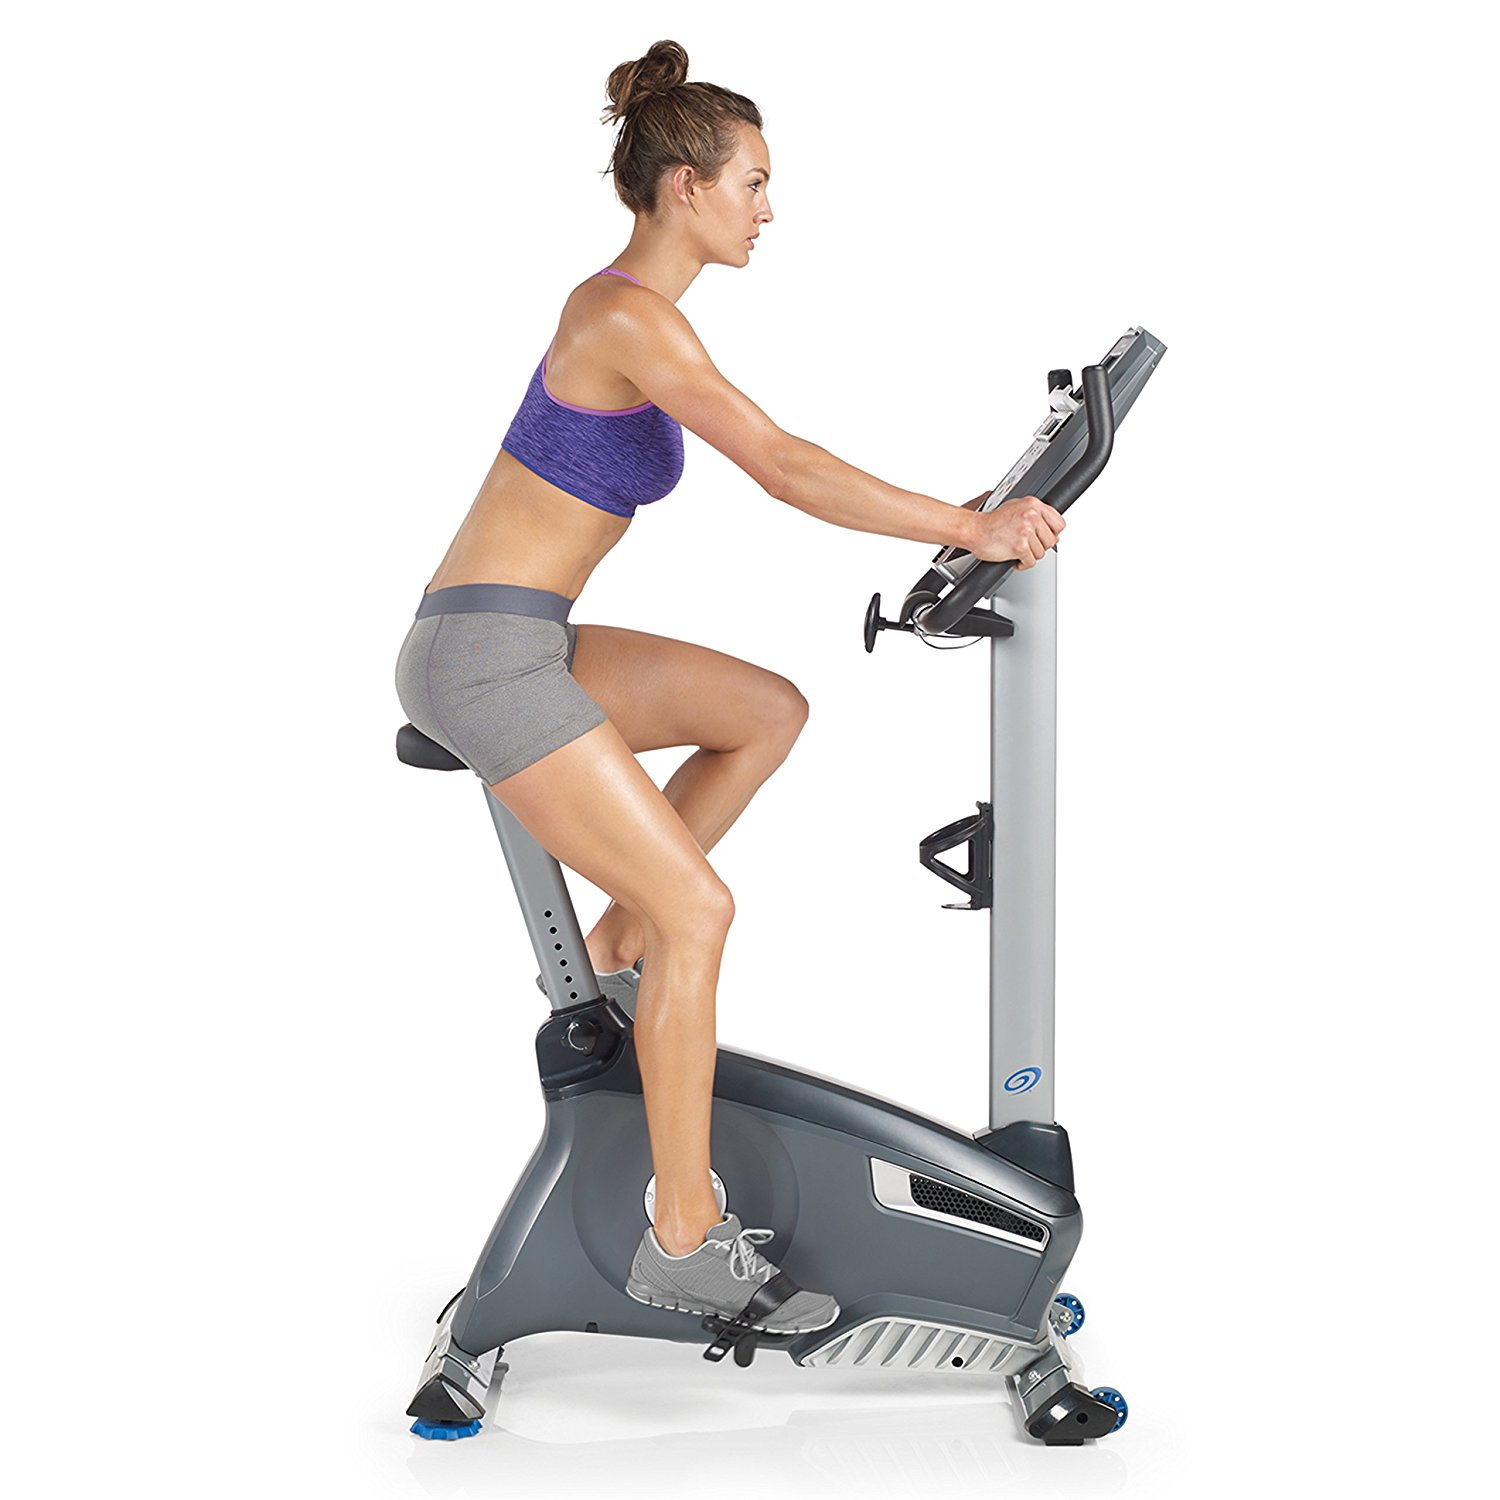gym_bike: (330, 297, 1177, 1456)
